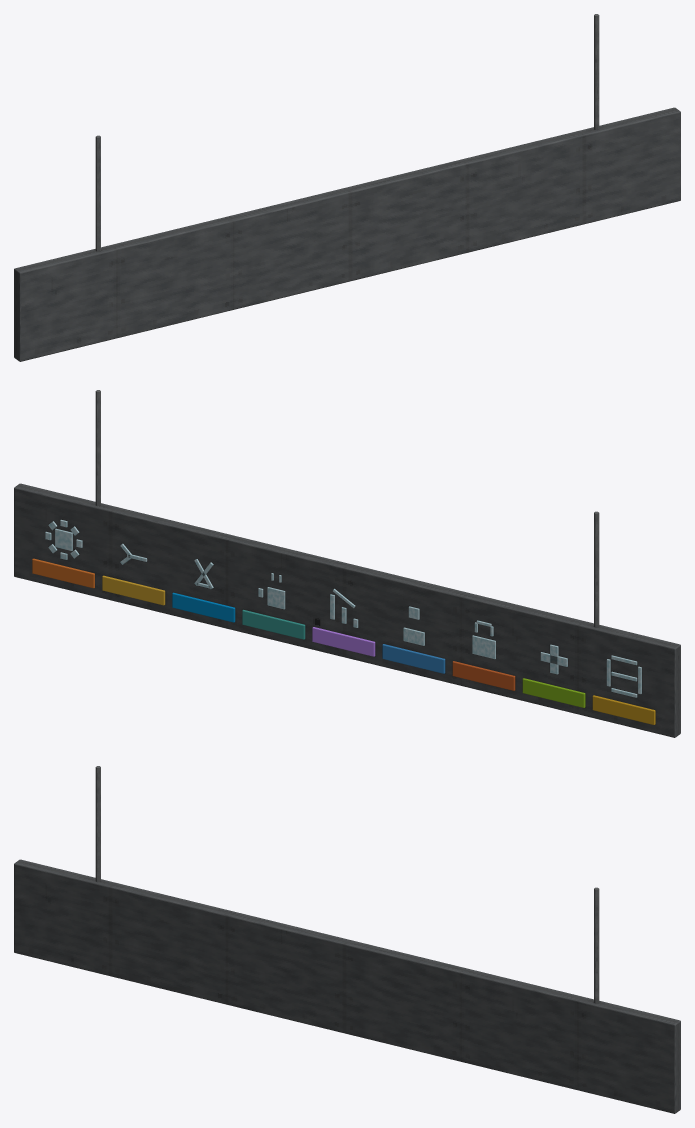
The model's file is base_hanging_directory.glb.
3 views of the same model, one above another, from view 1: azimuth 30°, elevation 25°; view 2: azimuth 150°, elevation 25°; view 3: azimuth 330°, elevation 25° (orthographic).
Visible parts, largest first — view 1: base_hanging_directory.001; view 2: base_hanging_directory.001; view 3: base_hanging_directory.001.
Boxes of the visible parts, x1,y1,x2,y2 form: base_hanging_directory.001: [14, 14, 680, 361]; base_hanging_directory.001: [14, 390, 680, 737]; base_hanging_directory.001: [14, 766, 680, 1113].
Size of the model in its own units: 8.5 by 2.5 by 0.165.
Materials: 19 (19 with a texture image).
